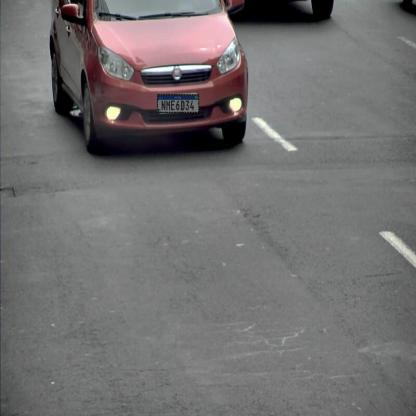PlacaM: (157, 94, 199, 113)
